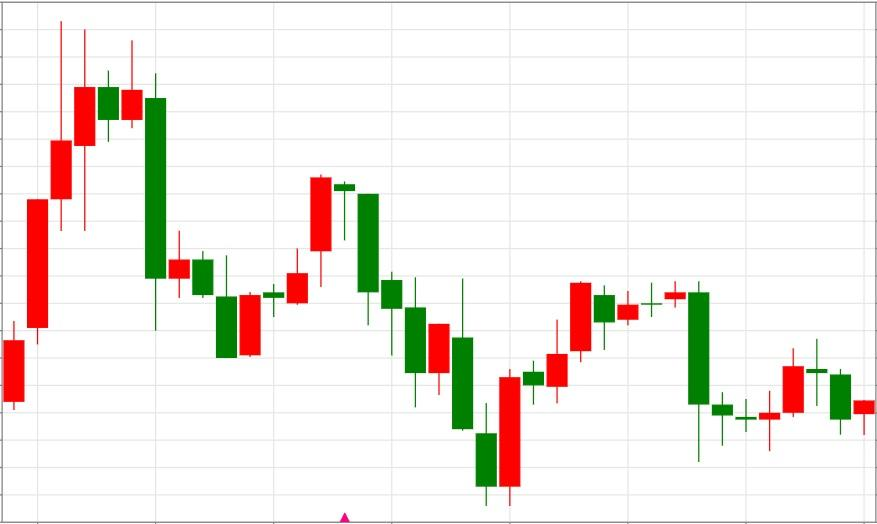bullish_engulfing_rise: (309, 173, 523, 507)
shooting_star_fall: (1, 21, 144, 409)
